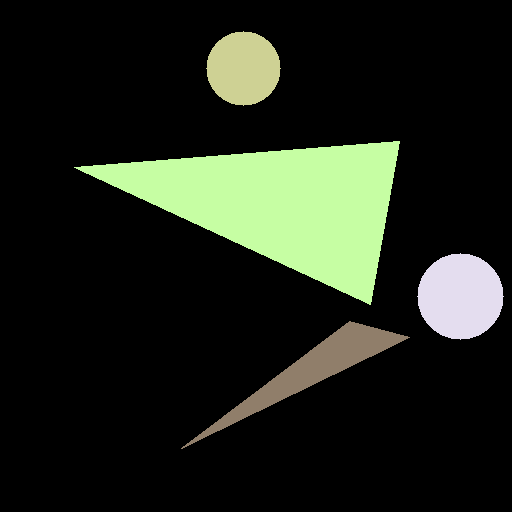circle: (417, 253, 503, 339), (206, 31, 280, 105)
triangle: (74, 141, 399, 304), (181, 321, 409, 448)
